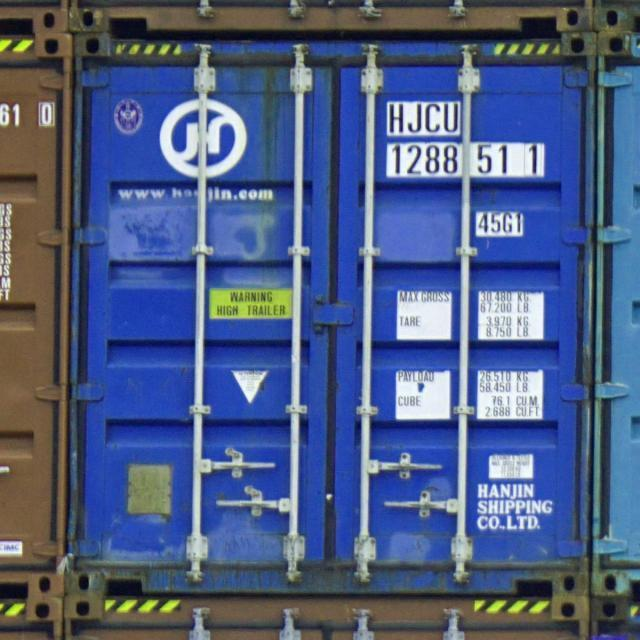ISO: (473, 209, 531, 238)
container_number: (383, 102, 545, 175)
